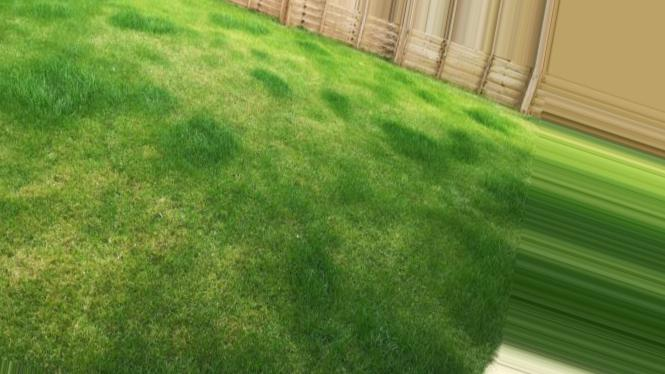patch: (175, 43, 236, 84), (14, 245, 44, 276), (292, 55, 313, 69)
